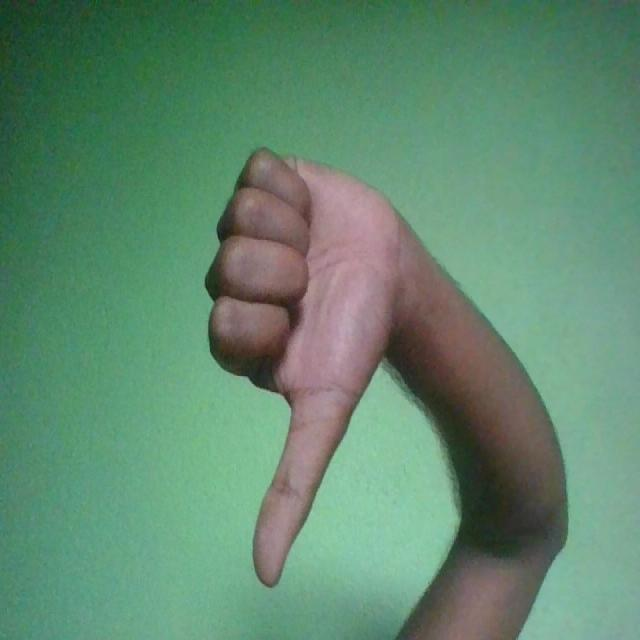Dislike: (205, 146, 403, 585)
